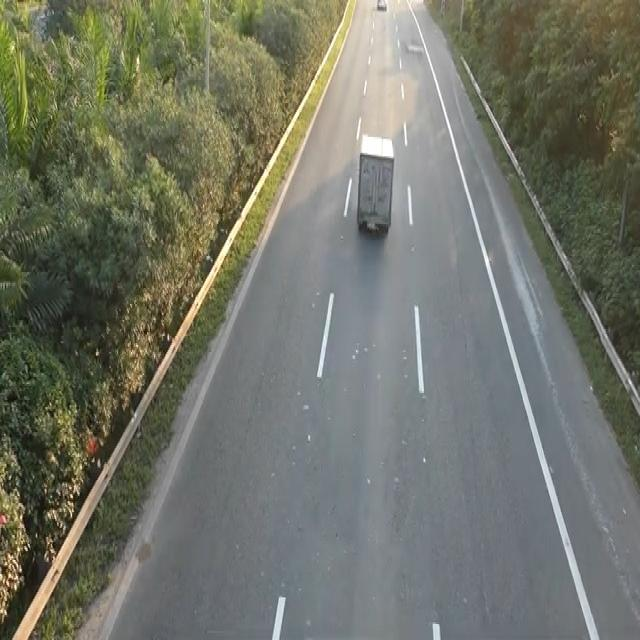minivan: (355, 130, 396, 236)
